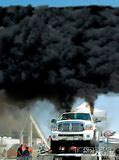smoke: (1, 4, 118, 106)
